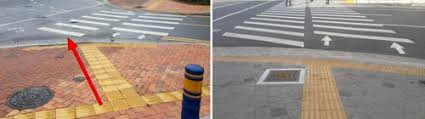guide_blocks: (302, 69, 345, 119), (337, 61, 425, 76), (217, 57, 334, 67), (83, 43, 156, 49)
